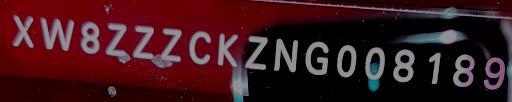letter: (38, 14, 76, 51), (8, 9, 36, 50), (270, 35, 300, 73), (214, 29, 240, 69), (102, 20, 128, 58), (244, 33, 270, 71), (450, 50, 476, 87), (304, 39, 330, 75), (159, 26, 183, 64), (188, 27, 212, 65), (334, 41, 358, 78), (482, 53, 506, 90), (131, 22, 155, 59), (362, 44, 386, 80), (78, 20, 102, 55), (392, 47, 416, 81), (427, 49, 441, 84)
